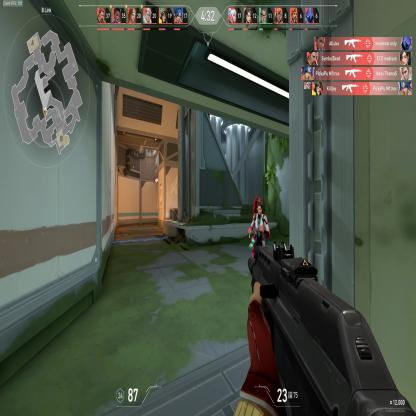enemy: (246, 194, 271, 245)
